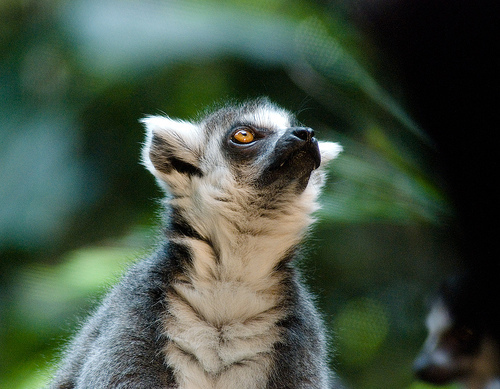cat: (46, 95, 346, 388)
